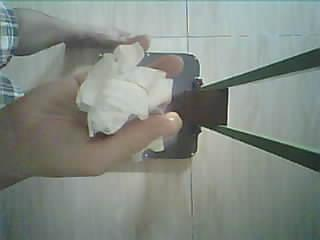paper: (77, 45, 173, 137), (144, 136, 164, 152), (133, 152, 144, 160)
